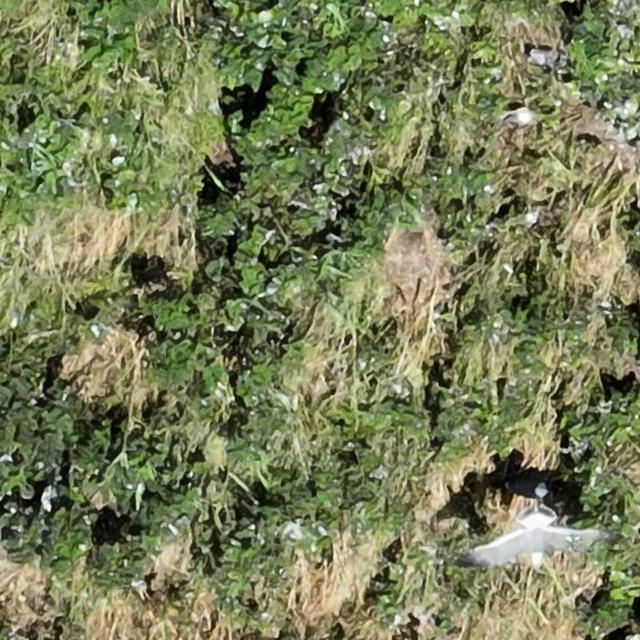F: (467, 510, 607, 566)
umineko: (530, 50, 555, 67)
